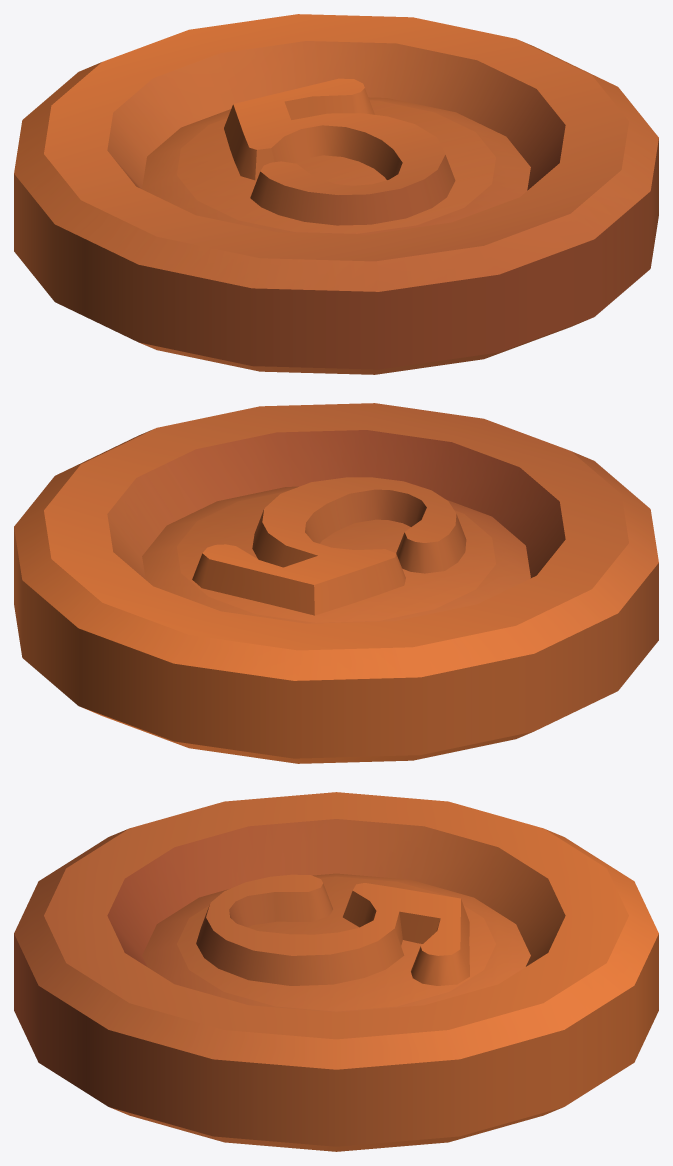
File: coin_5_copper.obj
3 renders of one model, top to bottom at view 1: azimuth 30°, elevation 25°; view 2: azimuth 150°, elevation 25°; view 3: azimuth 270°, elevation 25°, orthographic.
Visible parts, largest first — view 1: coin_5_copper; view 2: coin_5_copper; view 3: coin_5_copper.
Part boxes in pixels (bbox=[...]): coin_5_copper: bbox=[14, 14, 658, 374]; coin_5_copper: bbox=[14, 403, 658, 763]; coin_5_copper: bbox=[14, 792, 658, 1151].
Size of the model in its own units: 1.04 by 0.2 by 1.04.
Materials: 1 (1 with a texture image).
